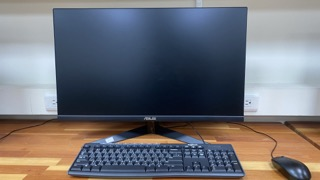screen: (53, 7, 245, 123)
